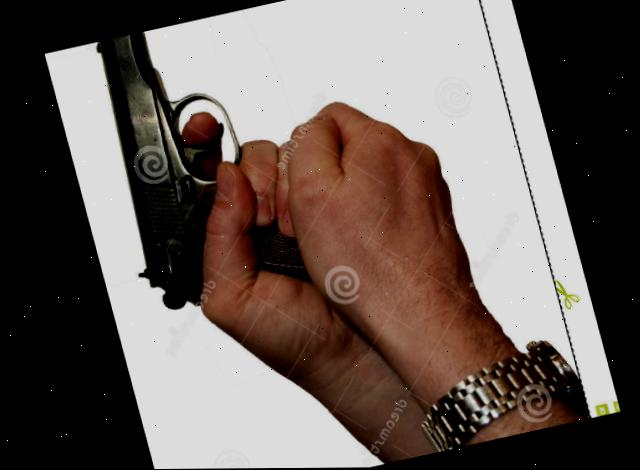pistol: (88, 29, 432, 322)
